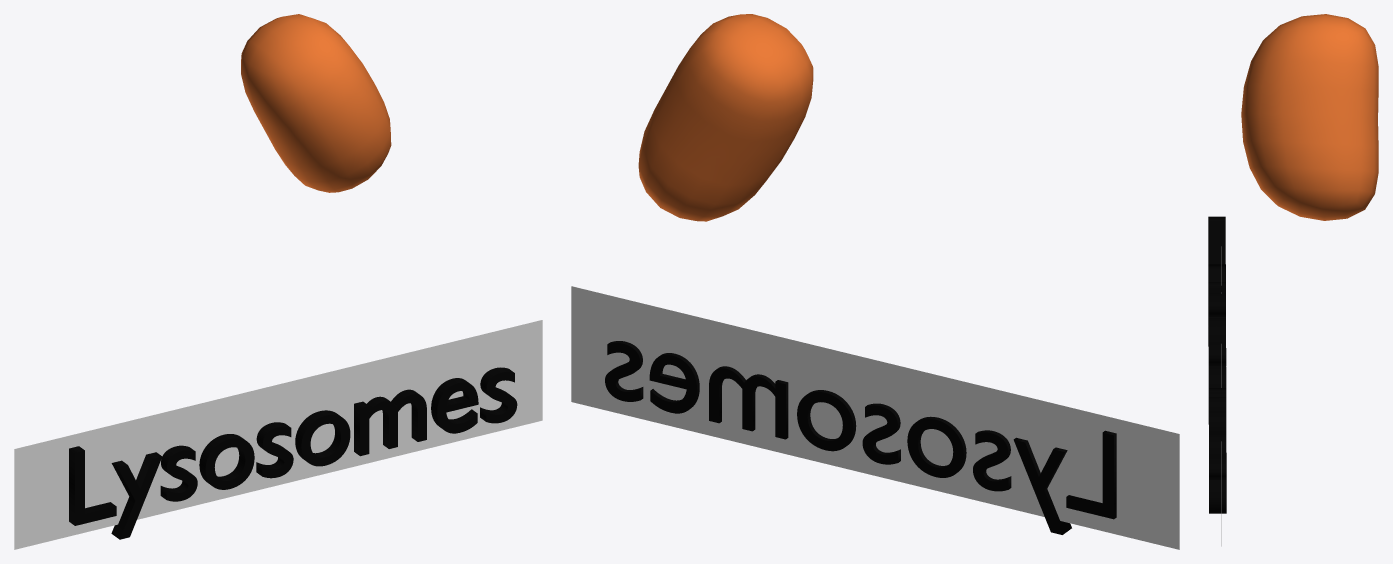
File: lysosomes.gltf
The picture shows the model from 3 angles, left to right: view 1: azimuth 30°, elevation 25°; view 2: azimuth 150°, elevation 25°; view 3: azimuth 270°, elevation 25°; orthographic projection. The views are drawn at different scales.
Parts seen in each view (by area): view 1: Plane.020, Piedra_Naranja, Text.020; view 2: Plane.020, Piedra_Naranja, Text.020; view 3: Piedra_Naranja, Text.020.
Part boxes in pixels (left/top/right/bottom): Plane.020: left=14, top=320, right=542, bottom=549; Piedra_Naranja: left=241, top=14, right=391, bottom=192; Text.020: left=69, top=367, right=517, bottom=539; Plane.020: left=571, top=286, right=1179, bottom=549; Piedra_Naranja: left=638, top=14, right=813, bottom=221; Text.020: left=605, top=341, right=1116, bottom=534; Piedra_Naranja: left=1241, top=14, right=1378, bottom=220; Text.020: left=1208, top=216, right=1226, bottom=513.
Bounding box in the file's own units: 1.33 × 1.02 × 0.3564.
